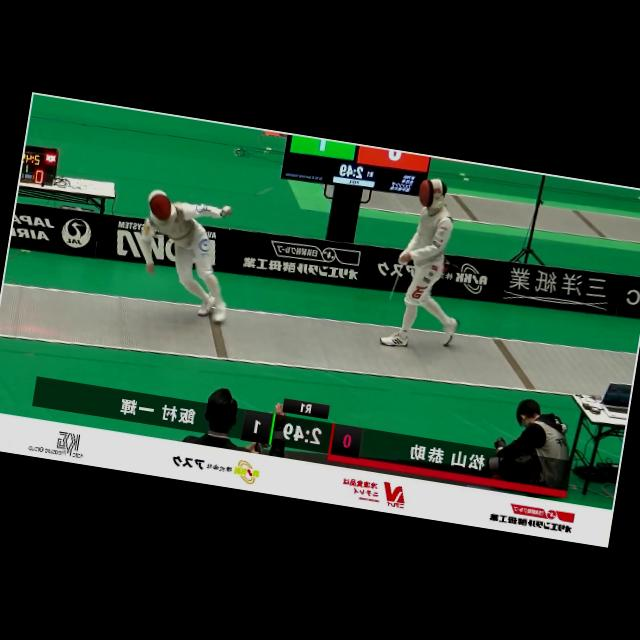blade: (222, 175, 280, 226), (378, 250, 413, 310)
